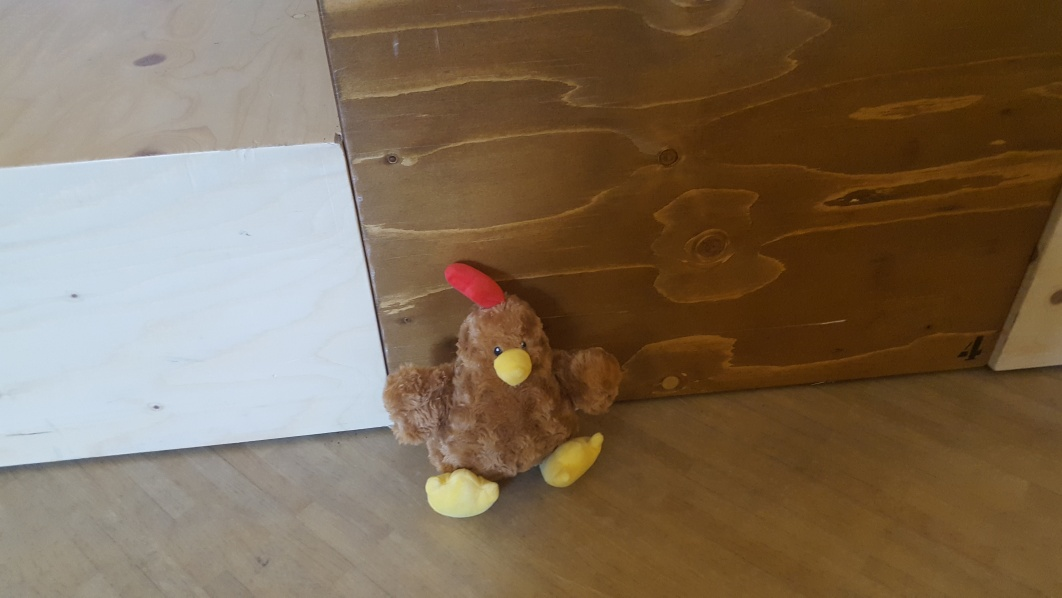chicken: (380, 264, 617, 523)
